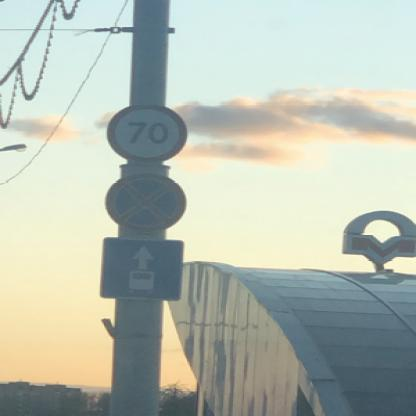speedlimit: (106, 103, 188, 161)
